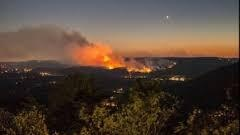fire: (80, 47, 153, 74)
